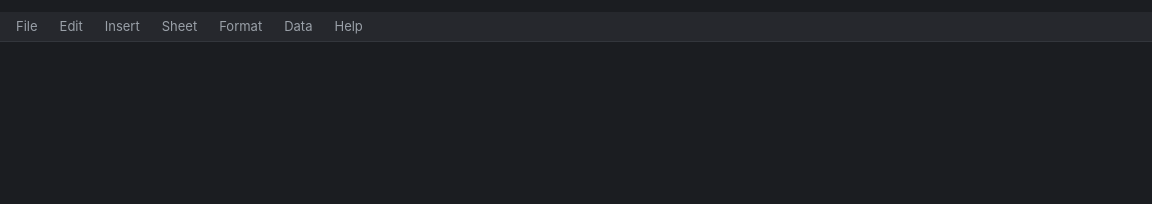
Test: structural labels count the selected span
The image size is (1152, 204).
Click the menu item "Insert" at (122, 27), box [95, 14, 150, 39]
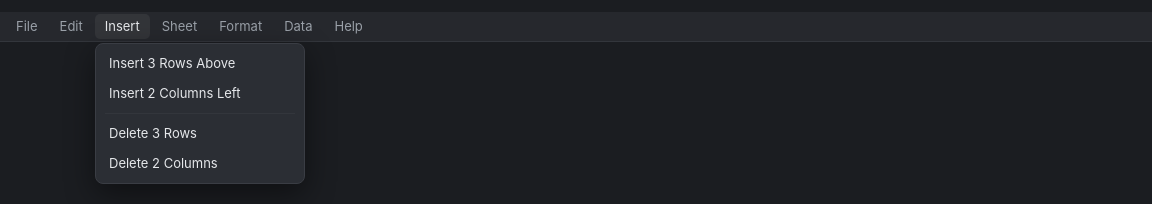
Result: the menu item "Delete 3 Rows" is shown at [109, 125, 197, 141]
Result: the menu item "Insert 2 Columns Left" is shown at [109, 84, 240, 100]
